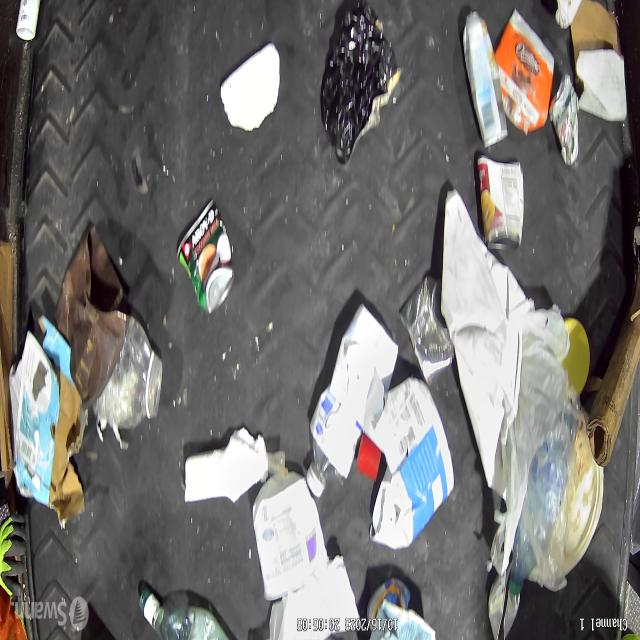can: (176, 200, 235, 315), (461, 10, 509, 148), (398, 273, 455, 389), (476, 154, 524, 254), (548, 72, 580, 166)
